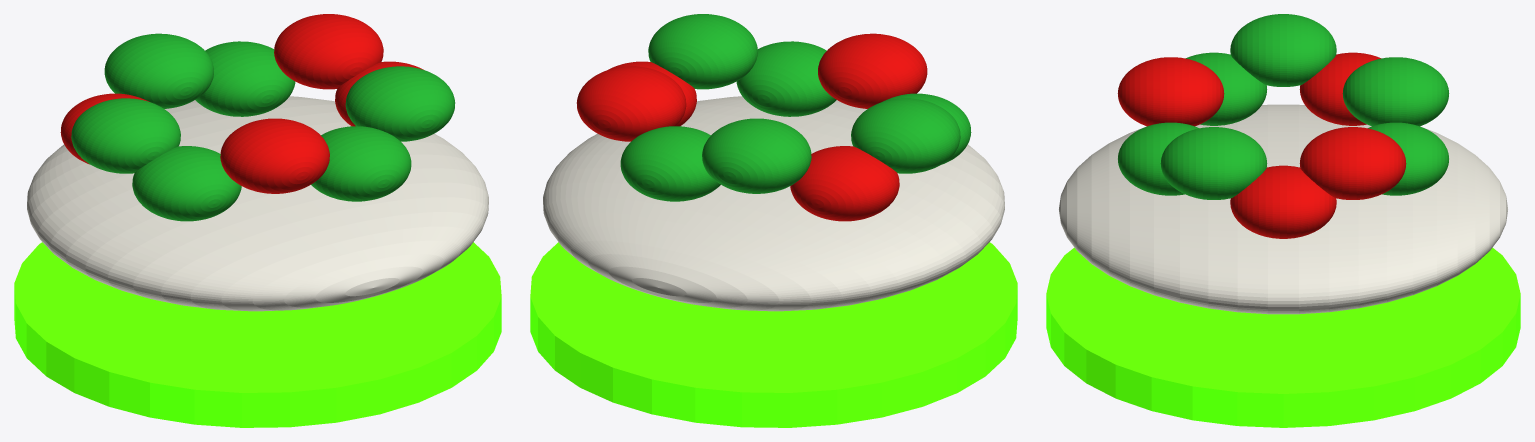
The model's file is food_salad_bowl.dae.
3 views of the same model, side by side, from view 1: azimuth 30°, elevation 25°; view 2: azimuth 150°, elevation 25°; view 3: azimuth 270°, elevation 25° (orthographic). The views are drawn at different scales.
Parts seen in each view (by area): view 1: 01_13_Popular_Food_Salad_Bowl_ROOT_base, 01_13_Popular_Food_Salad_Bowl_part_01, 01_13_Popular_Food_Salad_Bowl_part_05, 01_13_Popular_Food_Salad_Bowl_part_03, 01_13_Popular_Food_Salad_Bowl_part_07, 01_13_Popular_Food_Salad_Bowl_part_09, 01_13_Popular_Food_Salad_Bowl_part_11, 01_13_Popular_Food_Salad_Bowl_part_06, 01_13_Popular_Food_Salad_Bowl_part_04, 01_13_Popular_Food_Salad_Bowl_part_10, 01_13_Popular_Food_Salad_Bowl_part_08, 01_13_Popular_Food_Salad_Bowl_part_02; view 2: 01_13_Popular_Food_Salad_Bowl_ROOT_base, 01_13_Popular_Food_Salad_Bowl_part_01, 01_13_Popular_Food_Salad_Bowl_part_09, 01_13_Popular_Food_Salad_Bowl_part_11, 01_13_Popular_Food_Salad_Bowl_part_05, 01_13_Popular_Food_Salad_Bowl_part_07, 01_13_Popular_Food_Salad_Bowl_part_03, 01_13_Popular_Food_Salad_Bowl_part_08, 01_13_Popular_Food_Salad_Bowl_part_10, 01_13_Popular_Food_Salad_Bowl_part_04, 01_13_Popular_Food_Salad_Bowl_part_06, 01_13_Popular_Food_Salad_Bowl_part_02; view 3: 01_13_Popular_Food_Salad_Bowl_ROOT_base, 01_13_Popular_Food_Salad_Bowl_part_01, 01_13_Popular_Food_Salad_Bowl_part_03, 01_13_Popular_Food_Salad_Bowl_part_11, 01_13_Popular_Food_Salad_Bowl_part_05, 01_13_Popular_Food_Salad_Bowl_part_09, 01_13_Popular_Food_Salad_Bowl_part_07, 01_13_Popular_Food_Salad_Bowl_part_02, 01_13_Popular_Food_Salad_Bowl_part_04, 01_13_Popular_Food_Salad_Bowl_part_10, 01_13_Popular_Food_Salad_Bowl_part_06, 01_13_Popular_Food_Salad_Bowl_part_08.
Part boxes in pixels (x1,y1,x2,y2): 01_13_Popular_Food_Salad_Bowl_ROOT_base: (14, 242, 501, 427); 01_13_Popular_Food_Salad_Bowl_part_01: (27, 96, 488, 311); 01_13_Popular_Food_Salad_Bowl_part_05: (220, 118, 329, 193); 01_13_Popular_Food_Salad_Bowl_part_03: (345, 66, 455, 141); 01_13_Popular_Food_Salad_Bowl_part_07: (71, 98, 180, 173); 01_13_Popular_Food_Salad_Bowl_part_09: (104, 33, 213, 108); 01_13_Popular_Food_Salad_Bowl_part_11: (274, 14, 383, 89); 01_13_Popular_Food_Salad_Bowl_part_06: (132, 146, 241, 221); 01_13_Popular_Food_Salad_Bowl_part_04: (311, 126, 411, 201); 01_13_Popular_Food_Salad_Bowl_part_10: (195, 41, 295, 116); 01_13_Popular_Food_Salad_Bowl_part_08: (60, 93, 149, 164); 01_13_Popular_Food_Salad_Bowl_part_02: (335, 61, 423, 126); 01_13_Popular_Food_Salad_Bowl_ROOT_base: (530, 242, 1017, 427); 01_13_Popular_Food_Salad_Bowl_part_01: (543, 96, 1004, 311); 01_13_Popular_Food_Salad_Bowl_part_09: (702, 118, 811, 193); 01_13_Popular_Food_Salad_Bowl_part_11: (576, 66, 686, 141); 01_13_Popular_Food_Salad_Bowl_part_05: (818, 33, 927, 108); 01_13_Popular_Food_Salad_Bowl_part_07: (851, 98, 960, 173); 01_13_Popular_Food_Salad_Bowl_part_03: (648, 14, 757, 89); 01_13_Popular_Food_Salad_Bowl_part_08: (790, 146, 899, 221); 01_13_Popular_Food_Salad_Bowl_part_10: (620, 126, 720, 201); 01_13_Popular_Food_Salad_Bowl_part_04: (736, 41, 836, 116); 01_13_Popular_Food_Salad_Bowl_part_06: (882, 93, 971, 164); 01_13_Popular_Food_Salad_Bowl_part_02: (608, 61, 696, 126); 01_13_Popular_Food_Salad_Bowl_ROOT_base: (1046, 247, 1520, 427); 01_13_Popular_Food_Salad_Bowl_part_01: (1059, 104, 1507, 314); 01_13_Popular_Food_Salad_Bowl_part_03: (1160, 127, 1267, 199); 01_13_Popular_Food_Salad_Bowl_part_11: (1299, 127, 1406, 199); 01_13_Popular_Food_Salad_Bowl_part_05: (1117, 57, 1224, 126); 01_13_Popular_Food_Salad_Bowl_part_09: (1342, 57, 1449, 126); 01_13_Popular_Food_Salad_Bowl_part_07: (1230, 14, 1336, 86); 01_13_Popular_Food_Salad_Bowl_part_02: (1230, 165, 1336, 238); 01_13_Popular_Food_Salad_Bowl_part_04: (1118, 122, 1198, 195); 01_13_Popular_Food_Salad_Bowl_part_10: (1368, 122, 1448, 195); 01_13_Popular_Food_Salad_Bowl_part_06: (1185, 52, 1267, 125); 01_13_Popular_Food_Salad_Bowl_part_08: (1299, 52, 1381, 125).
Size of the model in its own units: 0.76 by 0.4306 by 0.76.
